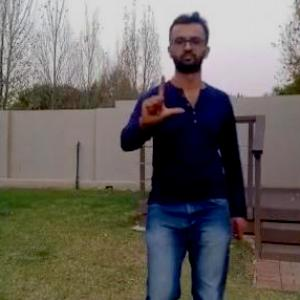land_hand: (137, 71, 186, 129)
